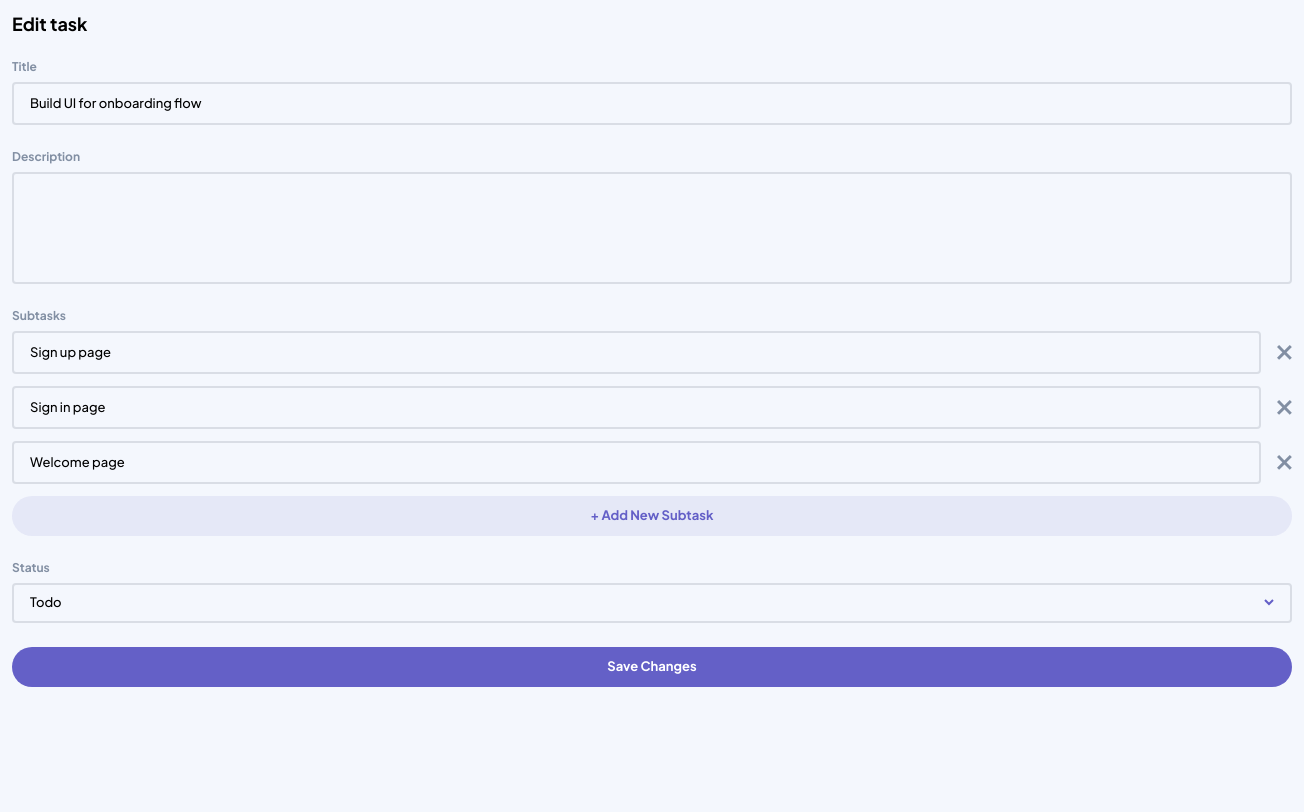
it: Given an <EditTaskForm /> component › When button '+ Add new subtask' is clicked › It should show alert 'Already defined' when we type a title that is already defined in another subtask input
The image size is (1304, 812).
Click the button "+ Add new subtask" at (652, 516), box [12, 496, 1292, 536]
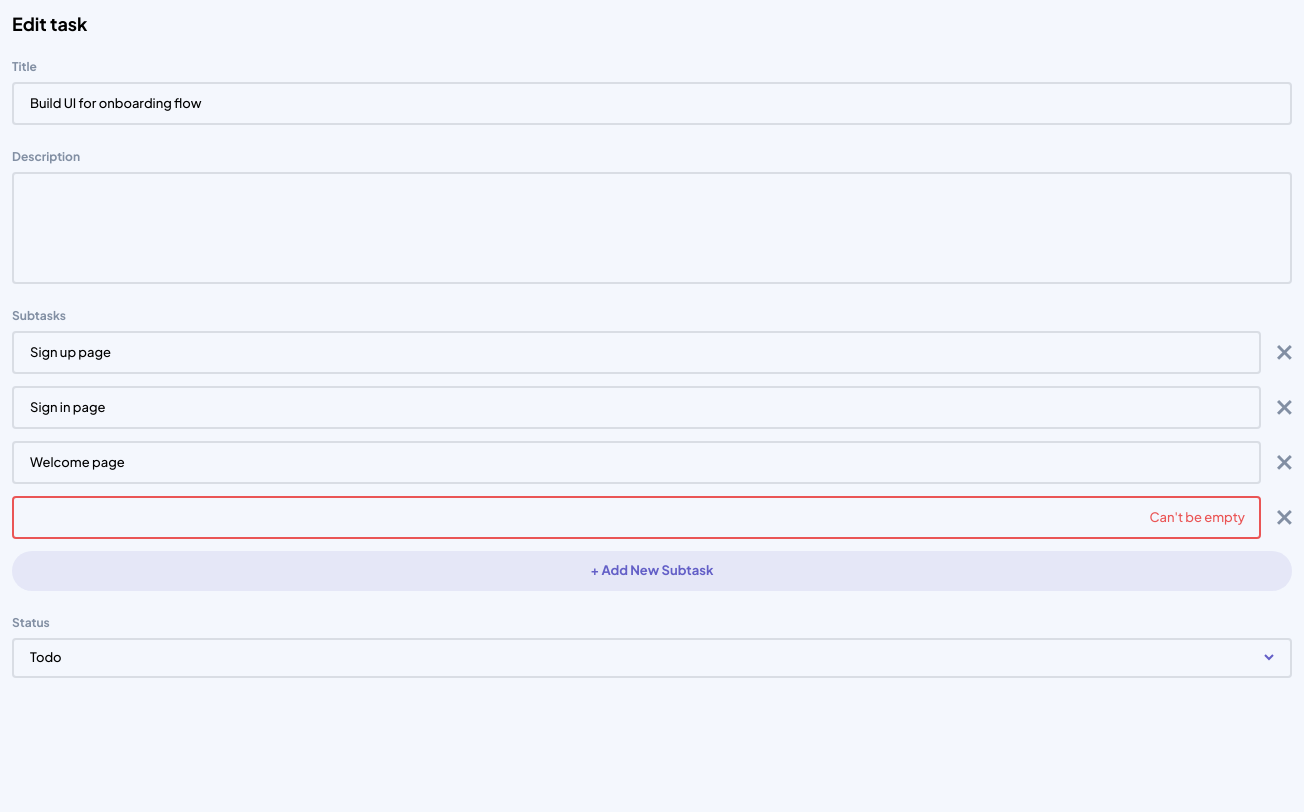
Type "Sign up page" into the field named "subtask" next to "Can't be empty" at (636, 518), box [12, 496, 1261, 539]
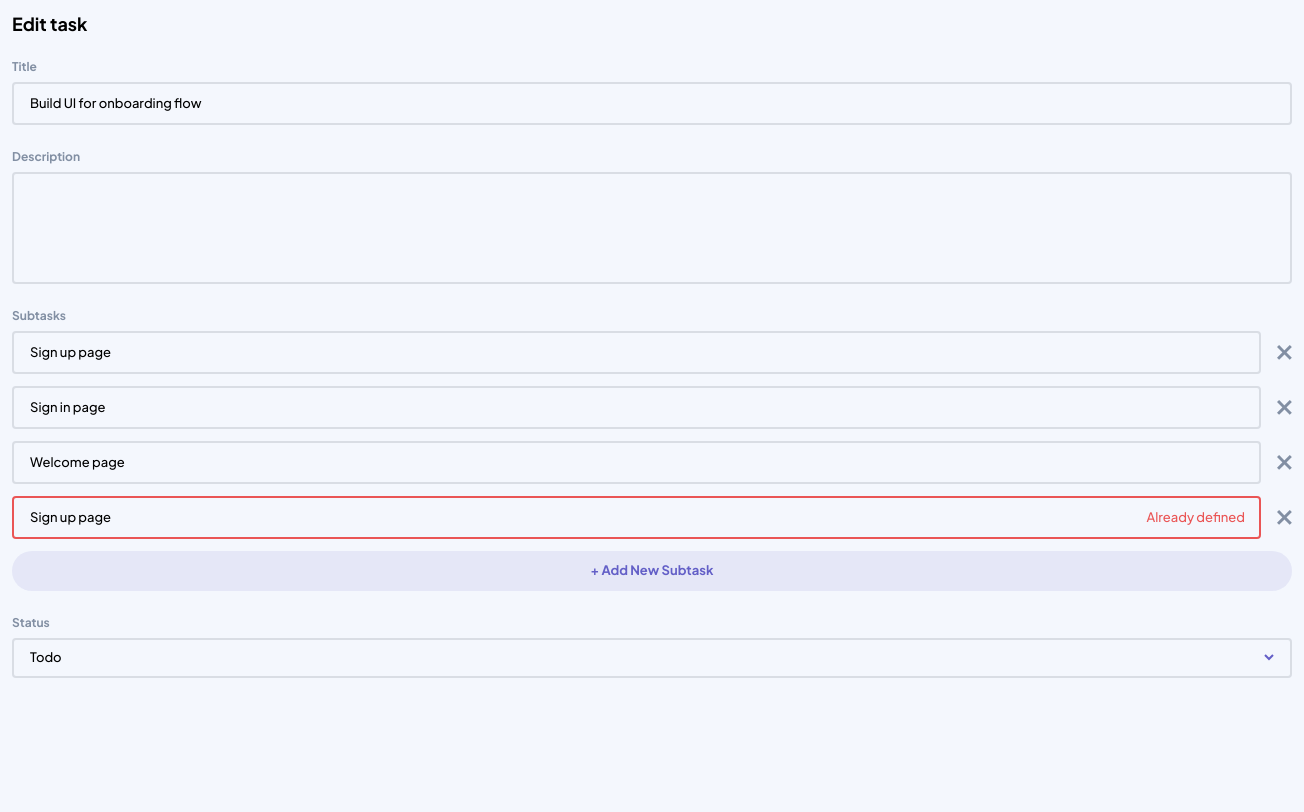
Result: the message "Already defined" is shown at [1146, 508, 1245, 527]
